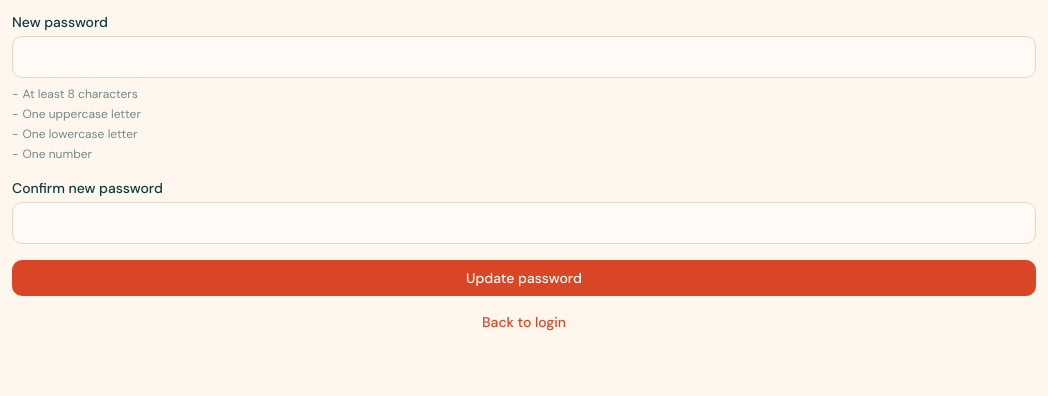
Scenario: components/auth/UpdatePasswordForm › shows validation error for empty password
Click the button "Update password": (524, 278) [12,260,1036,296]
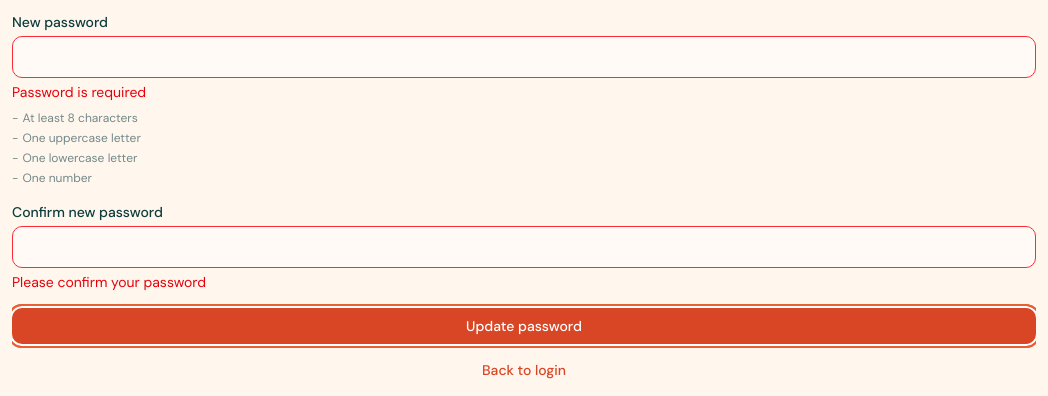
Check: the text "Password is required" is shown, box [12,83,146,101]
